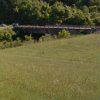Tree: (7, 0, 100, 18)
